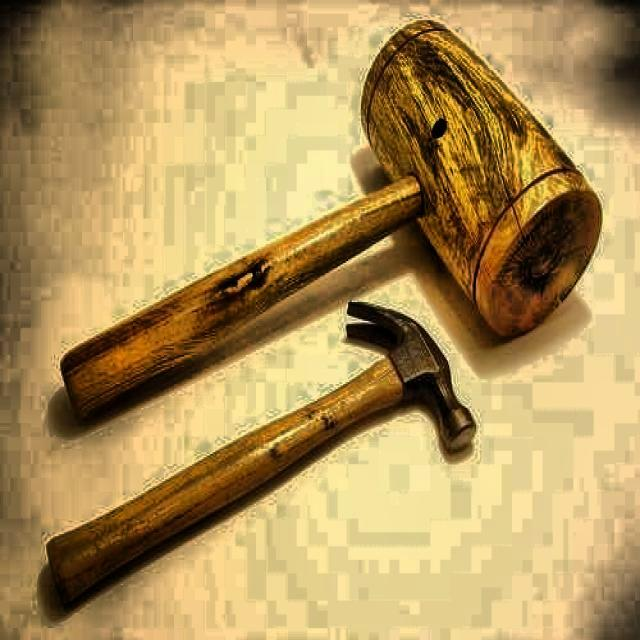hammer: (48, 296, 478, 602)
